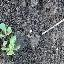Purslane: (0, 14, 22, 61)
